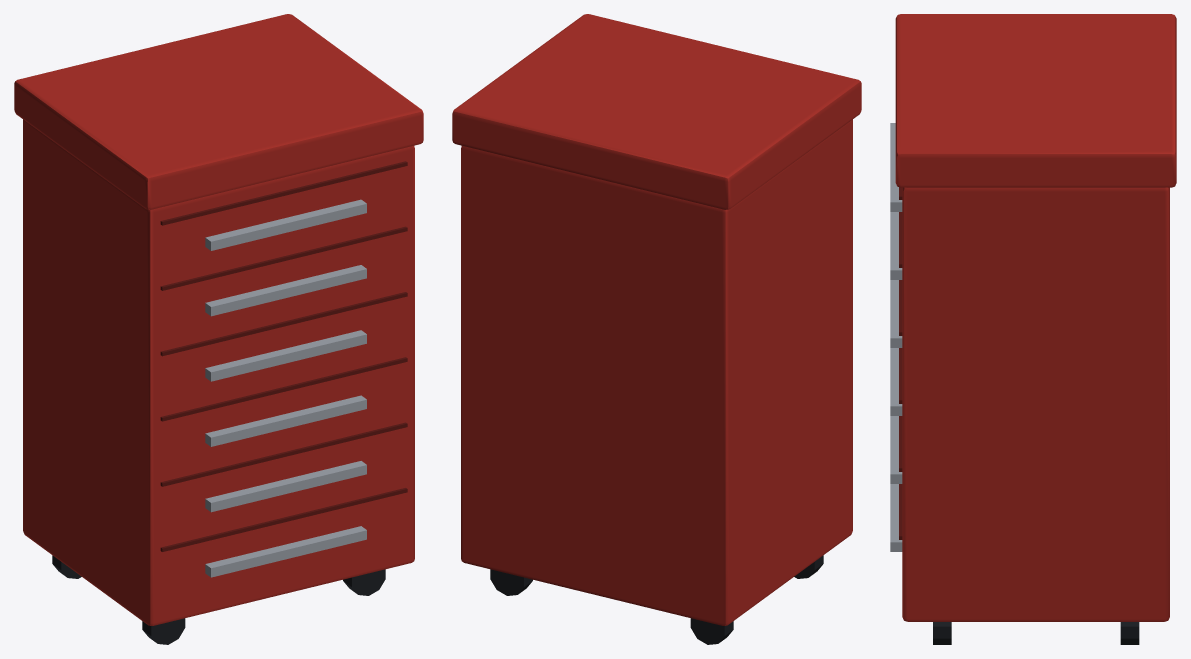
File: tool-chest.glb
3 renders of one model, left to right at view 1: azimuth 30°, elevation 25°; view 2: azimuth 150°, elevation 25°; view 3: azimuth 270°, elevation 25°, orthographic. The views are drawn at different scales.
Parts seen in each view (by area): view 1: part-chest, part-steel, part-chest-dark, part-tyre; view 2: part-chest, part-tyre; view 3: part-chest, part-steel, part-chest-dark, part-tyre.
Boxes of the visible parts, left/top/right/bottom form: part-chest: left=14, top=14, right=423, bottom=625; part-steel: left=205, top=199, right=366, bottom=577; part-chest-dark: left=160, top=161, right=407, bottom=551; part-tyre: left=52, top=555, right=385, bottom=644; part-chest: left=452, top=14, right=861, bottom=625; part-tyre: left=490, top=555, right=823, bottom=644; part-chest: left=895, top=14, right=1176, bottom=621; part-steel: left=890, top=123, right=902, bottom=551; part-chest-dark: left=899, top=187, right=902, bottom=539; part-tyre: left=933, top=622, right=1139, bottom=644.
Size of the model in its own units: 25 by 42 by 21.4.
